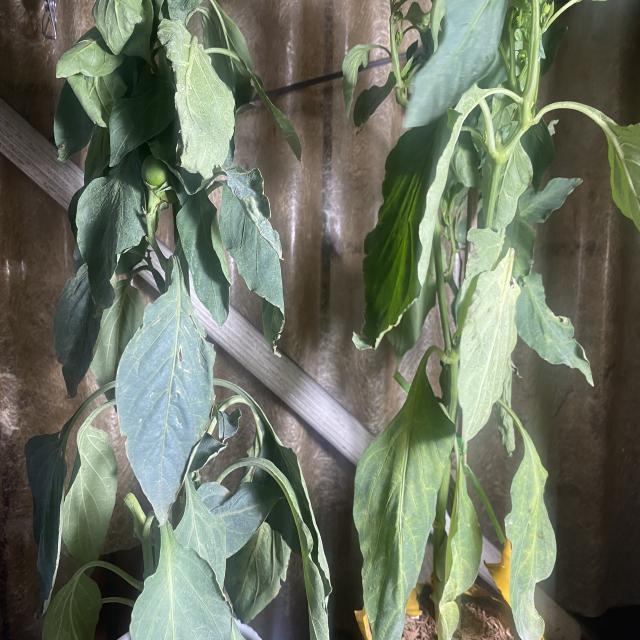Leaf: (350, 106, 460, 354), (353, 368, 455, 632), (117, 280, 212, 528), (157, 14, 236, 180), (76, 144, 146, 318), (505, 425, 557, 640), (24, 430, 67, 621)
